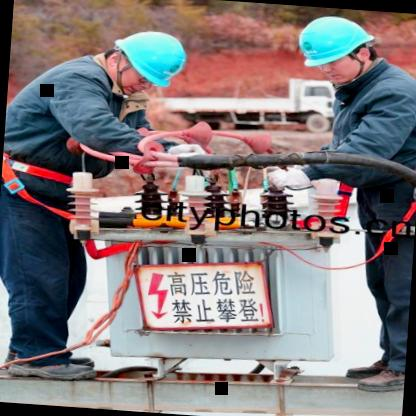helmet: (98, 22, 198, 100), (292, 11, 386, 88)
